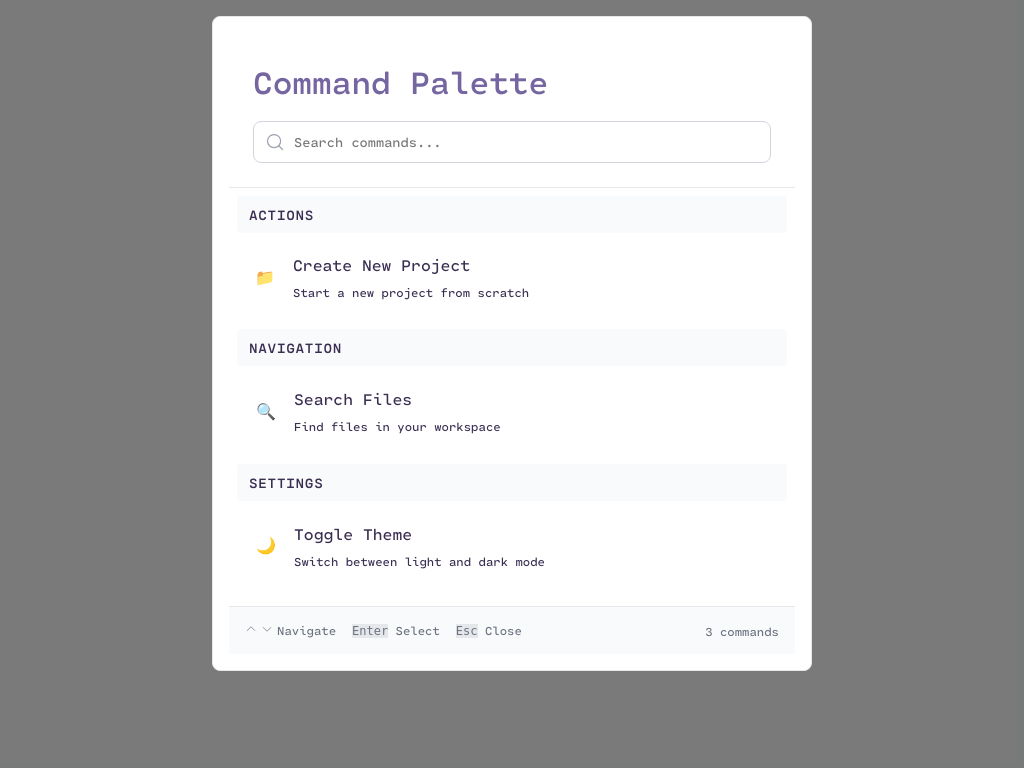
Test case: CommandPalette › filters commands by keywords
The image size is (1024, 768).
Type "dark" into the field with placeholder "Search commands..." at (512, 142), box [253,121,771,163]
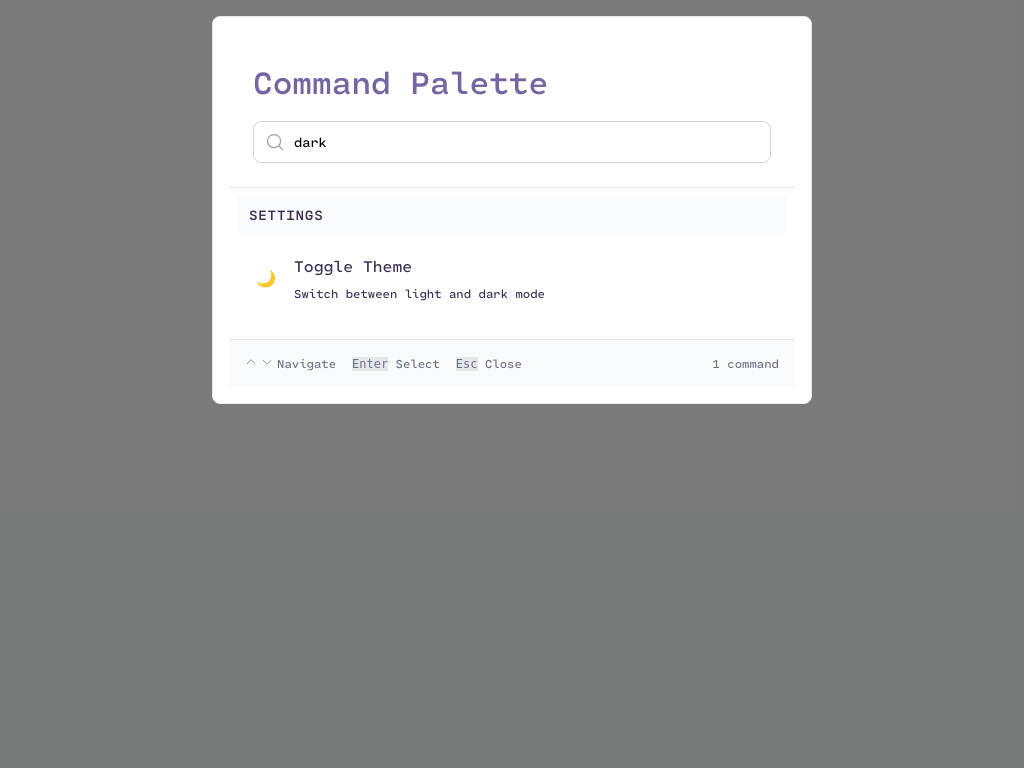
Expected: the text "Toggle Theme" is shown, [294,256,412,275]
Now the text "Create New Project" is gone
Now the text "Search Files" is gone
